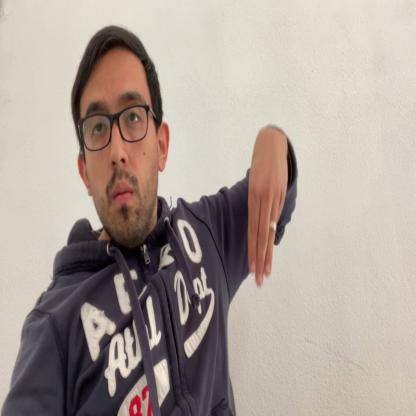M: (247, 129, 288, 286)
